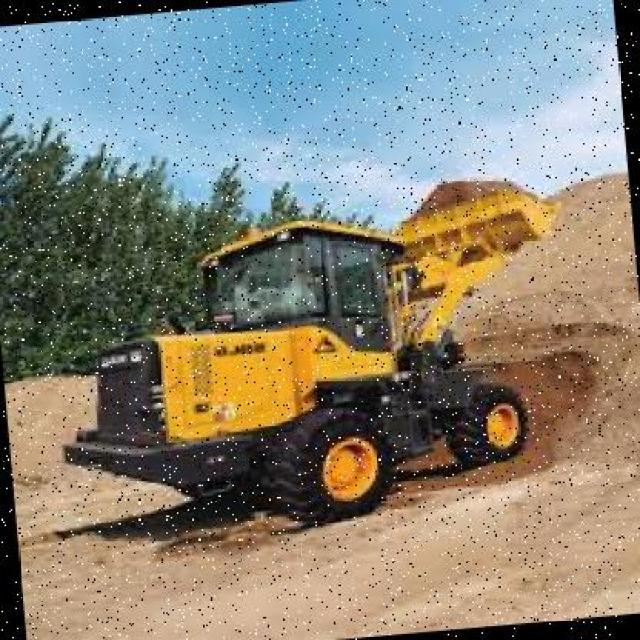buldozerpayloadergrader: (59, 185, 539, 558)
